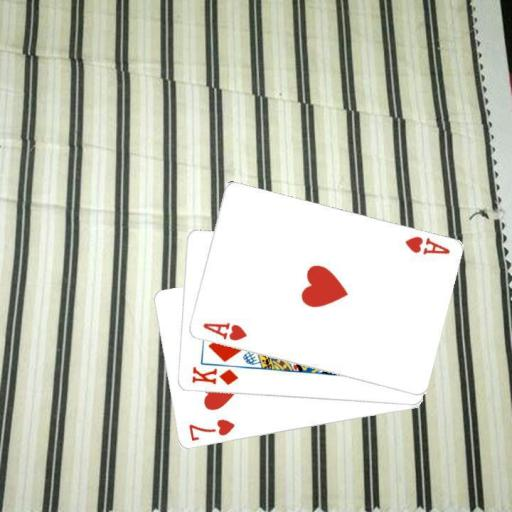card-corner: (185, 416, 236, 443), (188, 364, 240, 387), (199, 319, 248, 343), (402, 233, 451, 257)
